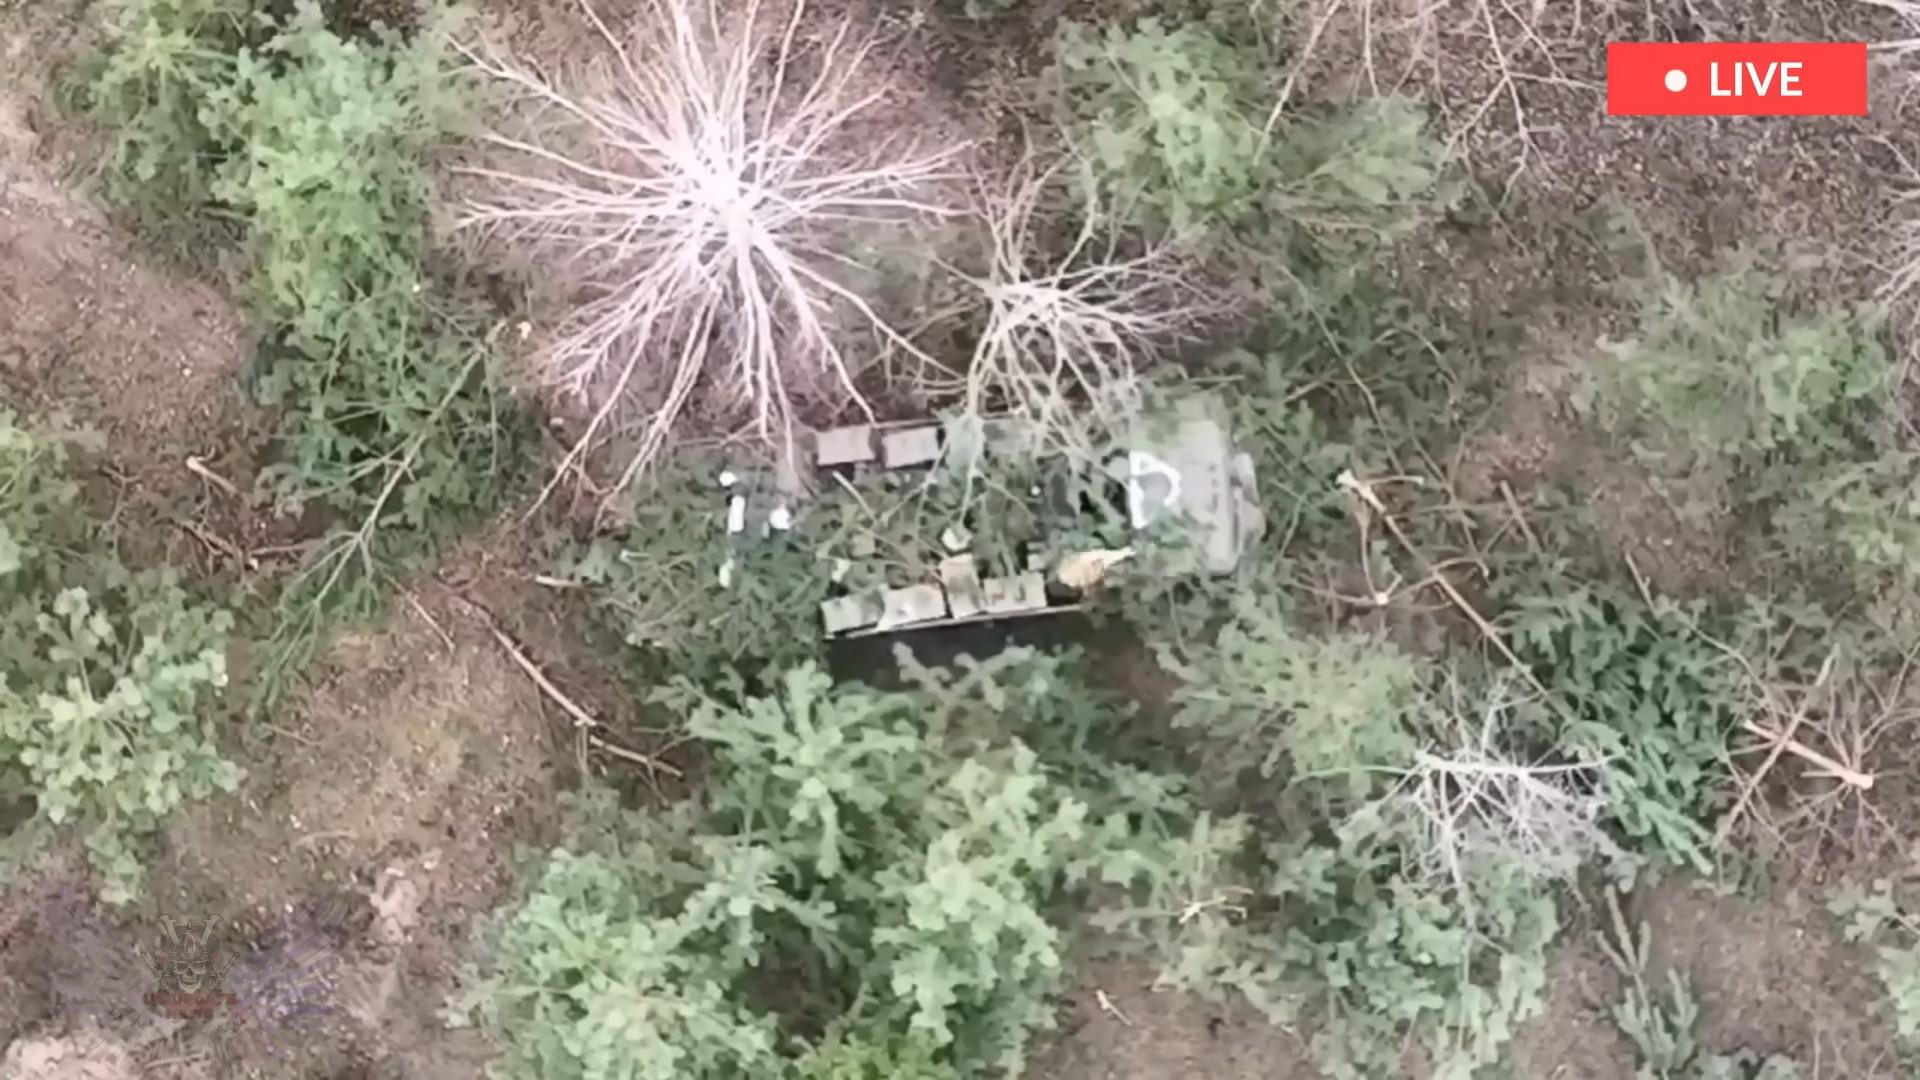tank: (620, 377, 1265, 658)
